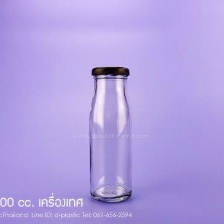bottle: (83, 62, 137, 207)
